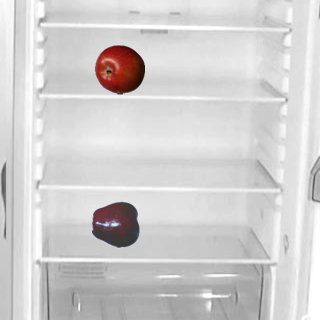Apple Braeburn: (94, 44, 144, 94)
Apple Red Delicious: (91, 199, 141, 249)
